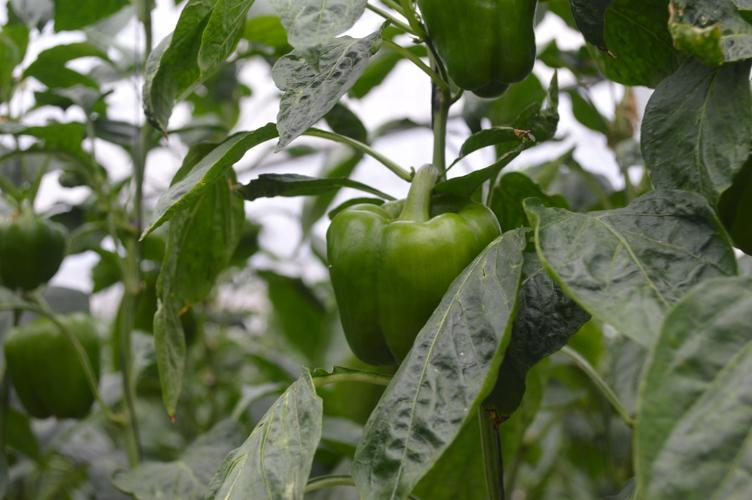BellPepper: (324, 201, 499, 363), (415, 5, 541, 97), (3, 312, 107, 420), (2, 216, 68, 289)
